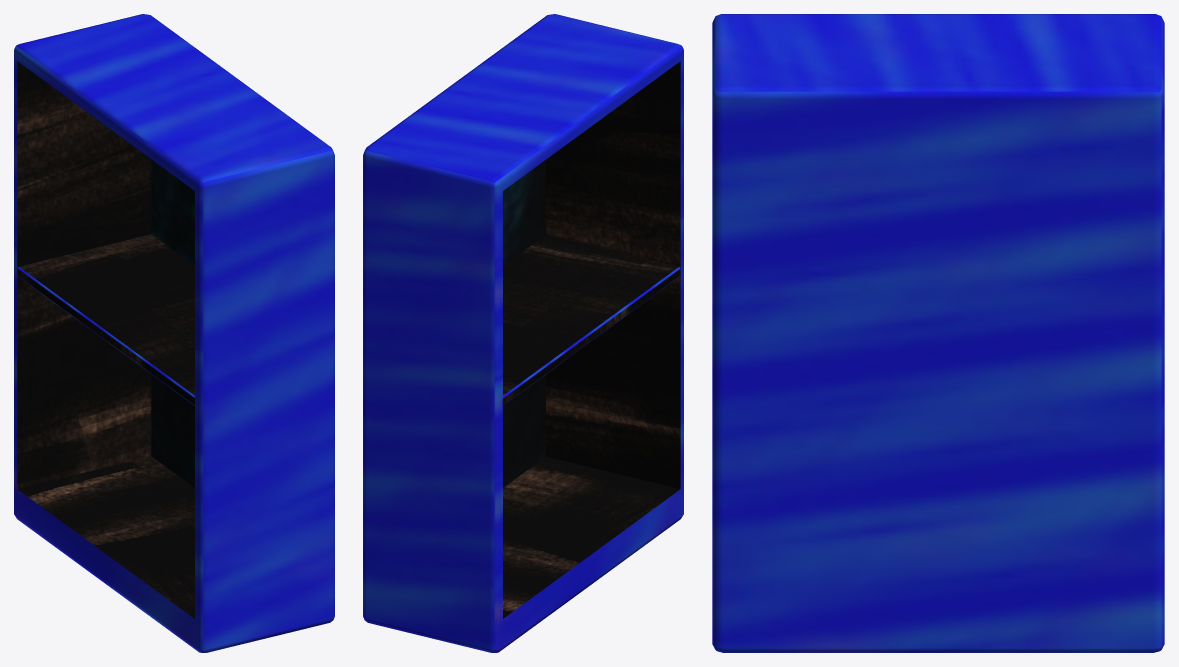
File: Rack.obj
3 renders of one model, left to right at view 1: azimuth 30°, elevation 25°; view 2: azimuth 150°, elevation 25°; view 3: azimuth 270°, elevation 25°, orthographic. The views are drawn at different scales.
Visible parts, largest first — view 1: Rack; view 2: Rack; view 3: Rack.
Part boxes in pixels (x1,y1,x2,y2): Rack: (14,14,334,652); Rack: (363,14,683,652); Rack: (712,14,1164,652).
Bounding box in the file's own units: 41.22 × 137 × 99.08.
